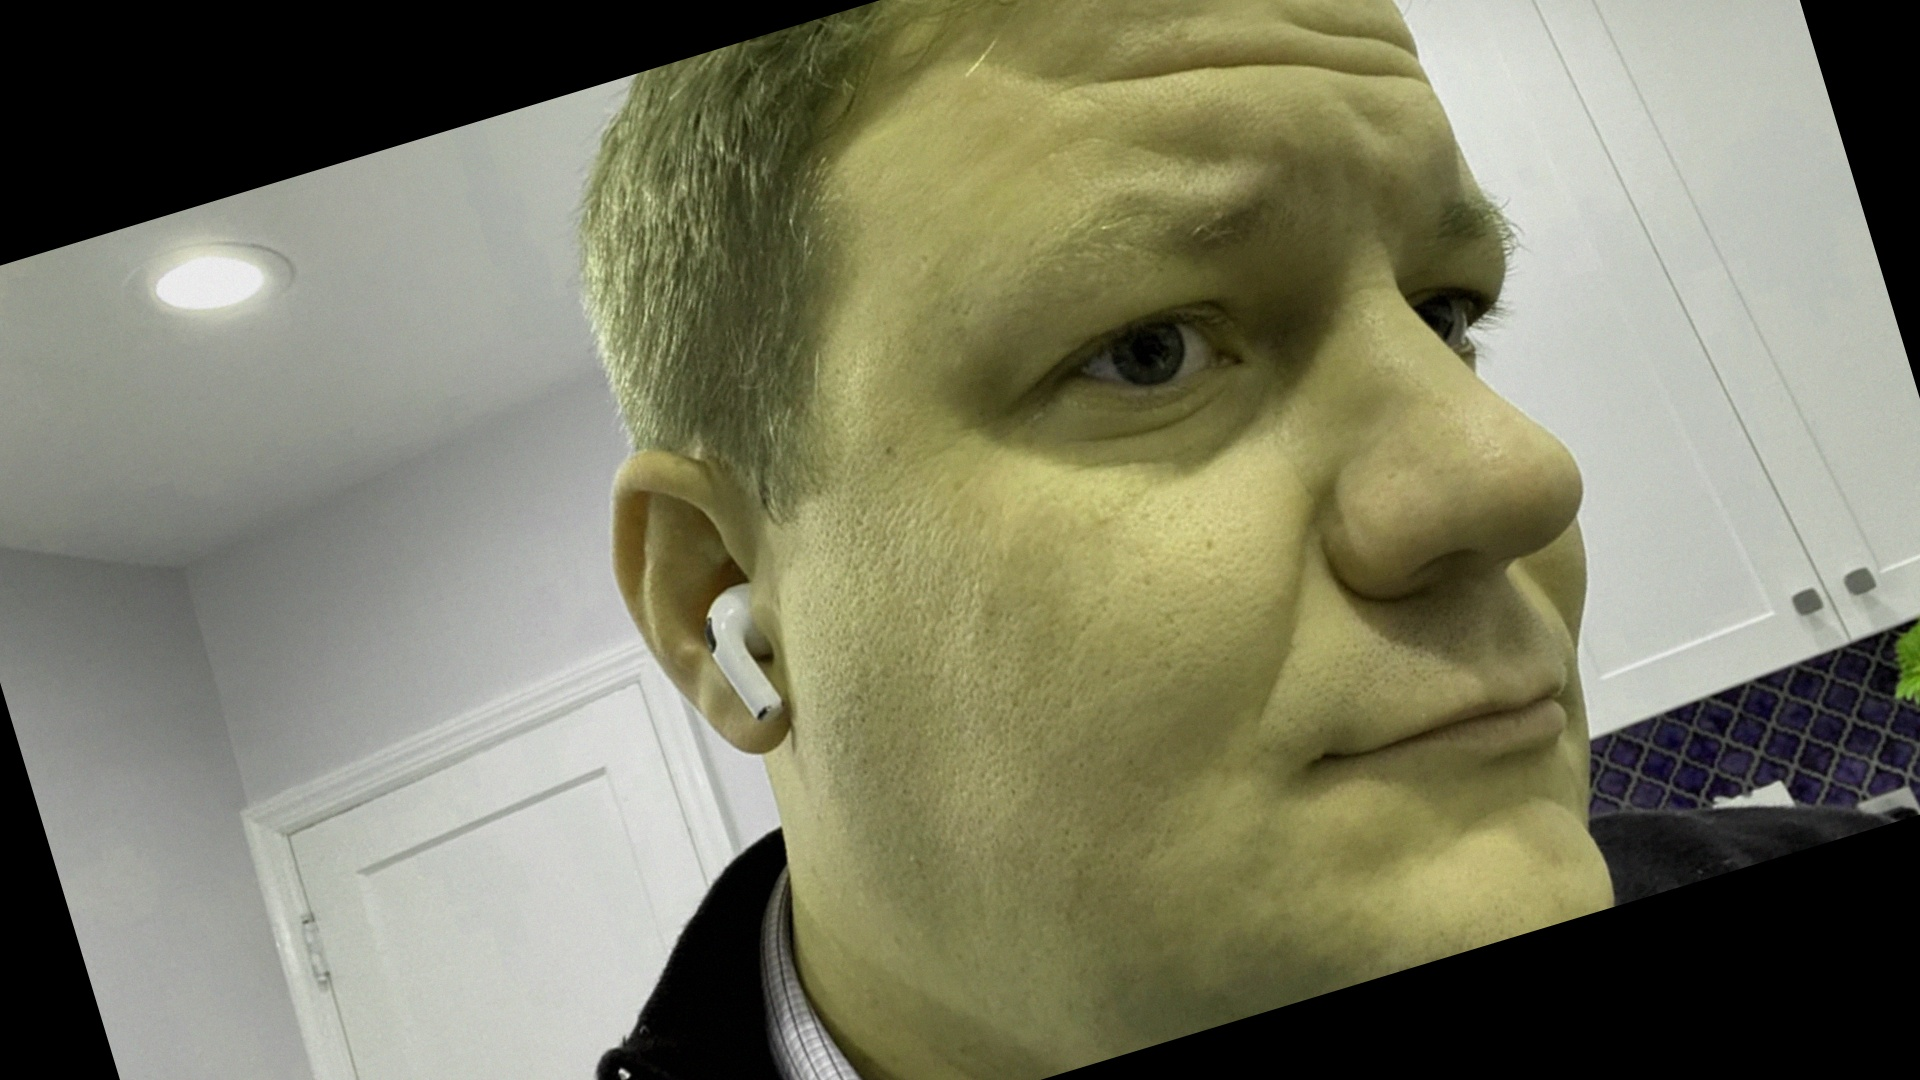earphone: (580, 426, 820, 782)
